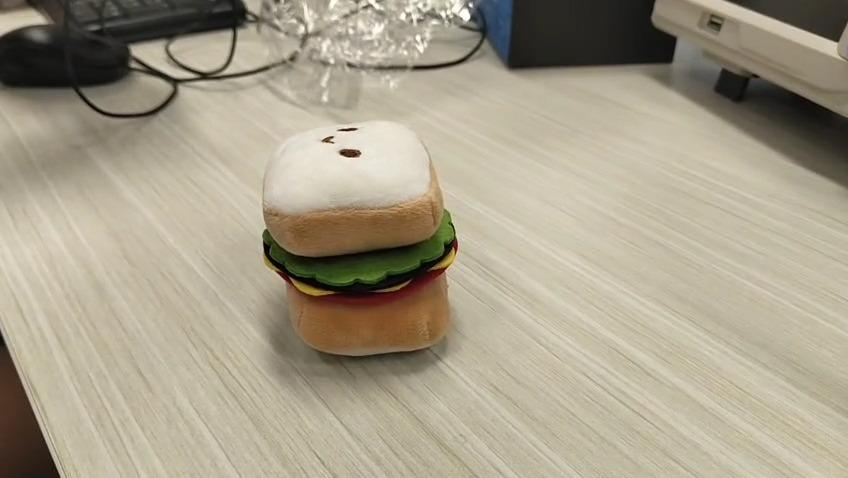objects: (260, 118, 459, 357)
